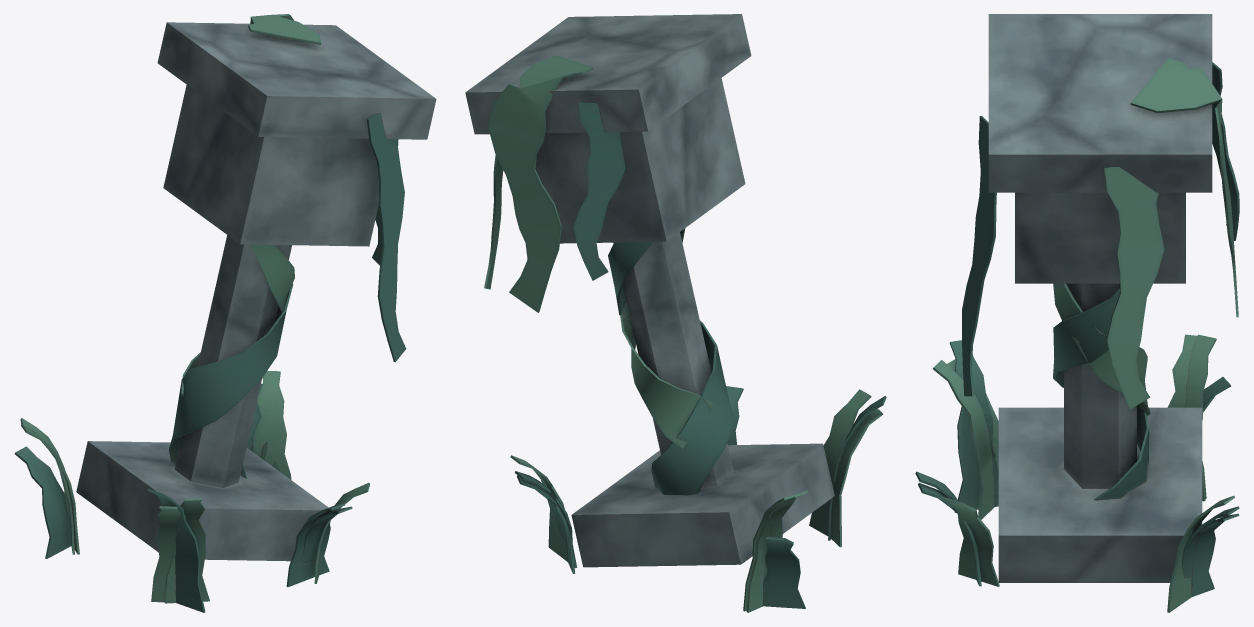
File: k_ryu_shizumi_tourou.glb
3 renders of one model, left to right at view 1: azimuth 30°, elevation 25°; view 2: azimuth 150°, elevation 25°; view 3: azimuth 270°, elevation 25°, orthographic. The views are drawn at different scales.
Parts seen in each view (by area): view 1: k_ryu_shizumi_tourou; view 2: k_ryu_shizumi_tourou; view 3: k_ryu_shizumi_tourou.
Part boxes in pixels (x1,y1,x2,y2): k_ryu_shizumi_tourou: (14, 14, 436, 612); k_ryu_shizumi_tourou: (465, 14, 886, 612); k_ryu_shizumi_tourou: (915, 14, 1239, 612).
Size of the model in its own units: 1.06 by 1.47 by 0.7973.
Materials: 1 (1 with a texture image).
